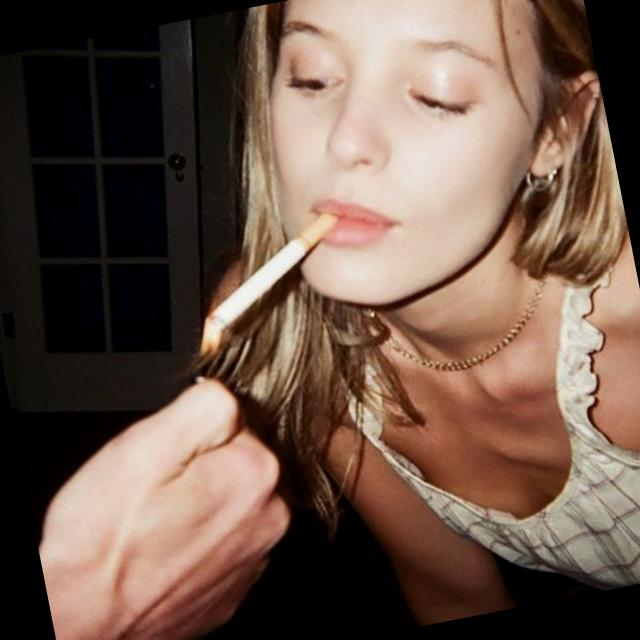cigarette: (187, 205, 362, 342)
